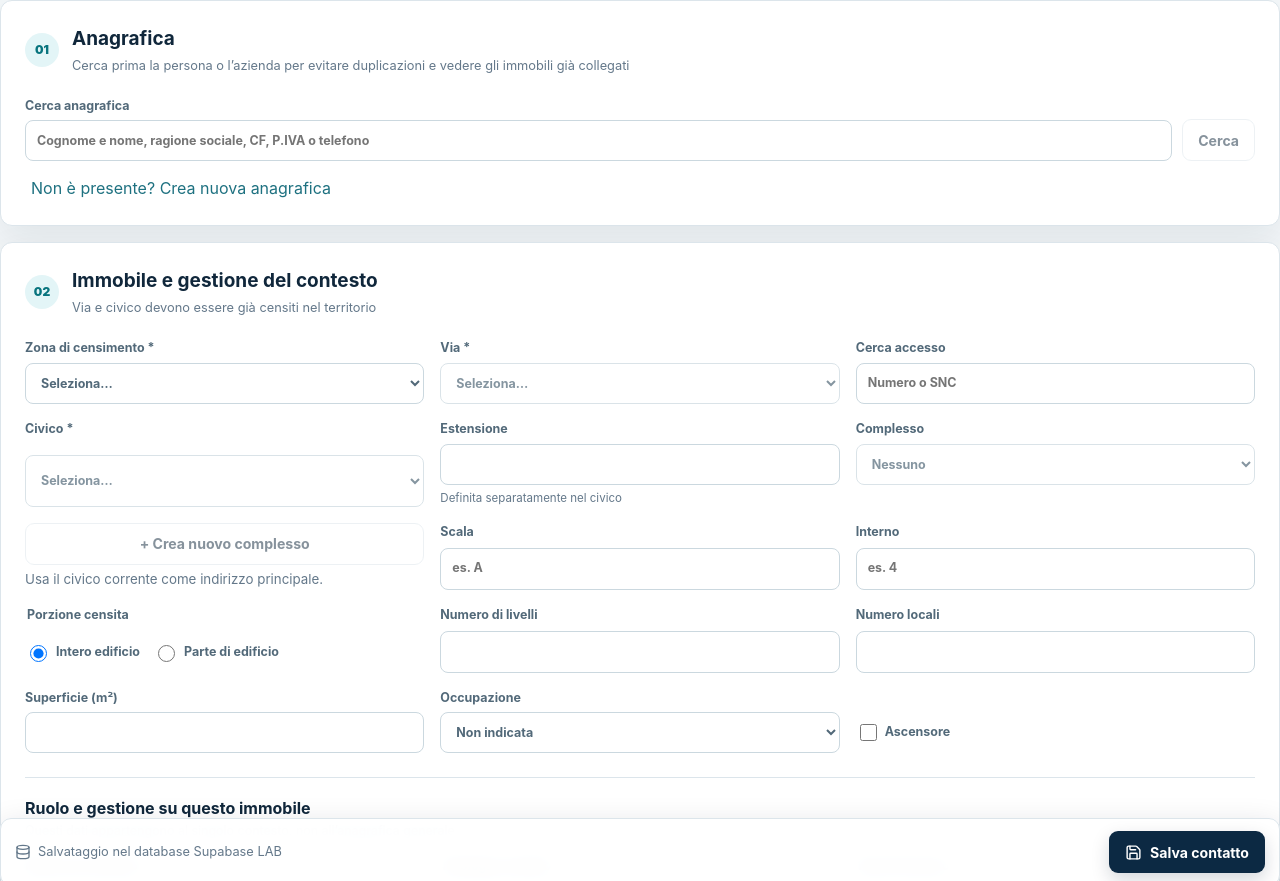
contact form › stops a missing identity at save without discarding the property draft
Select "Centro Storico" in the dropdown labelled "Zona di censimento *" at (225, 383), box [25,363,424,404]
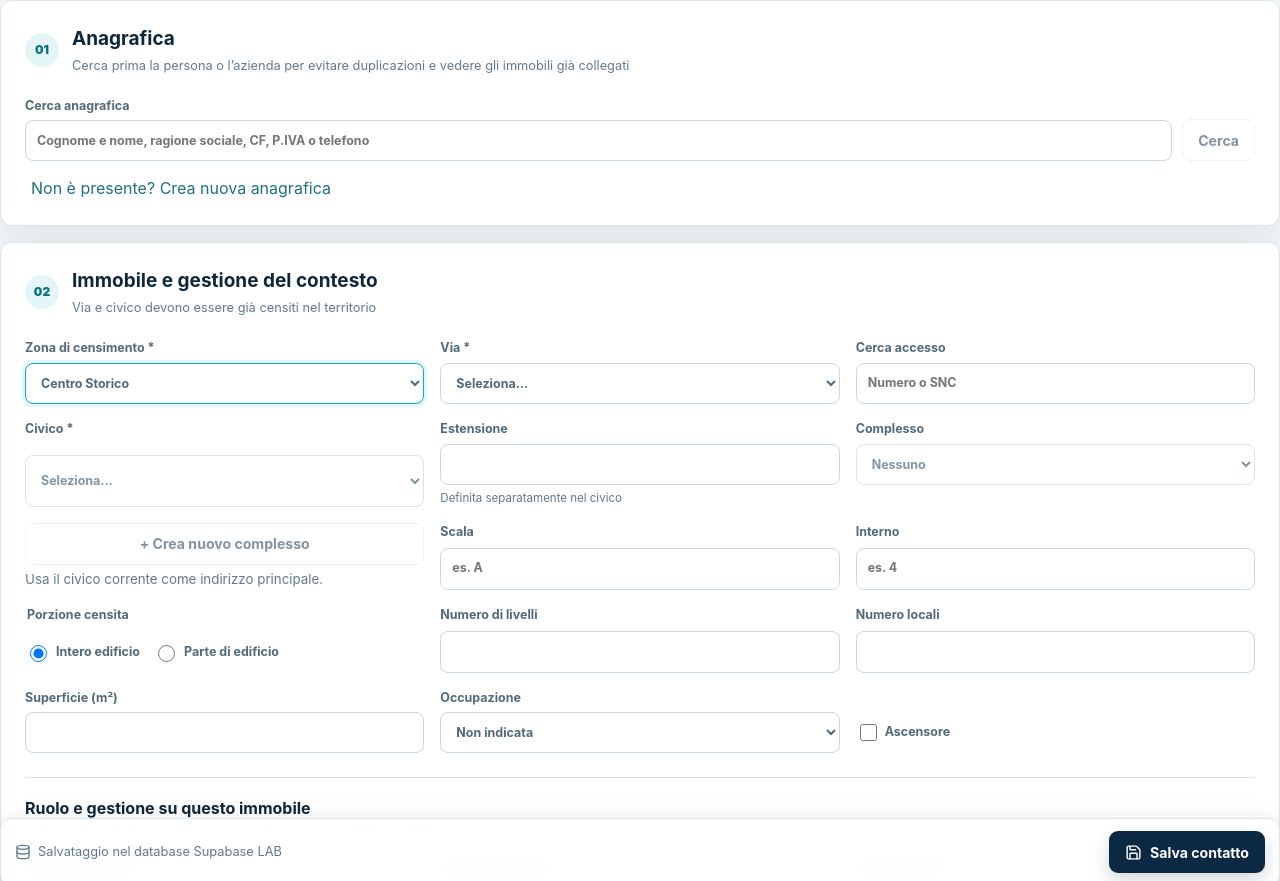
Select "Via Roma" in the dropdown labelled "Via *" at (640, 383), box [440,363,840,404]
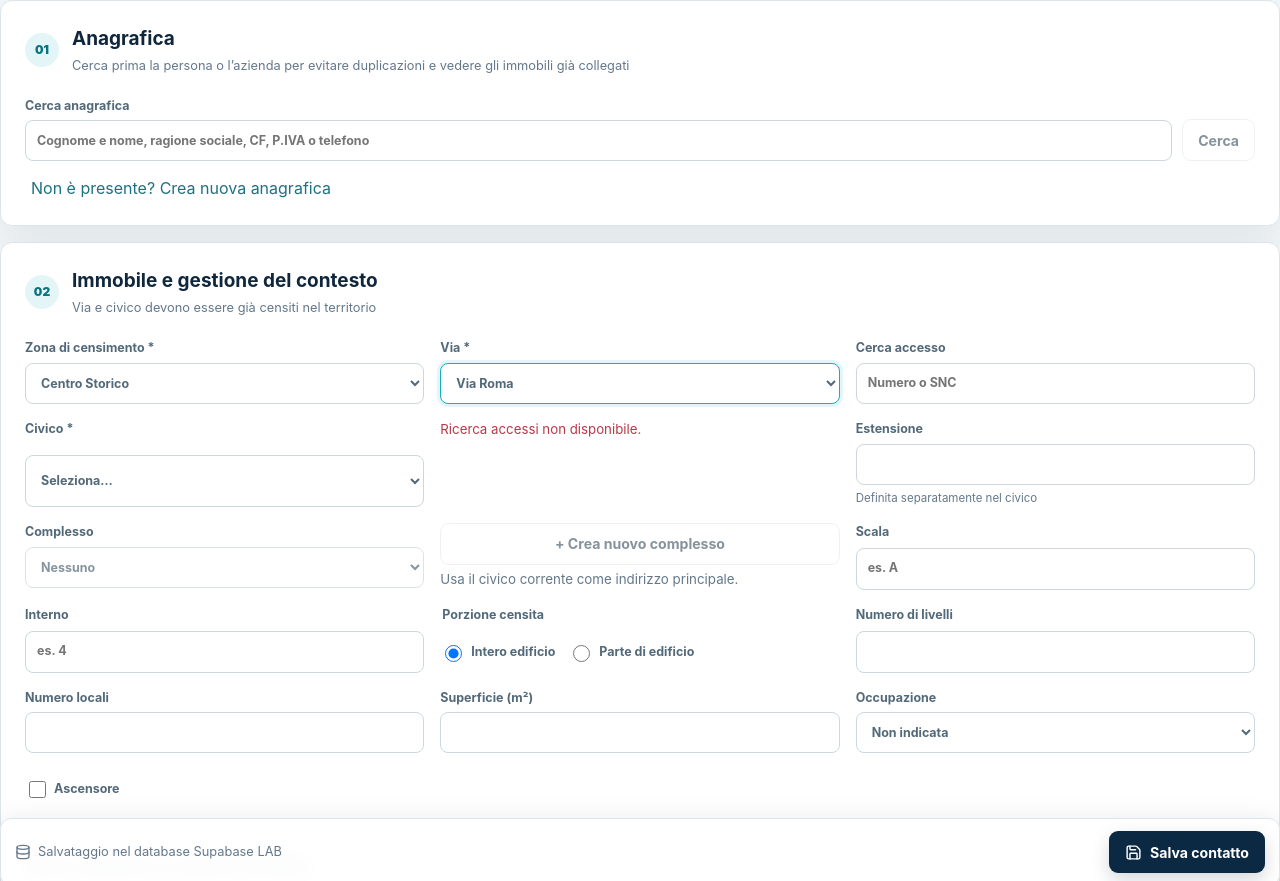
Select "2/A" in the dropdown labelled "Civico *" at (225, 481), box [25,455,424,507]
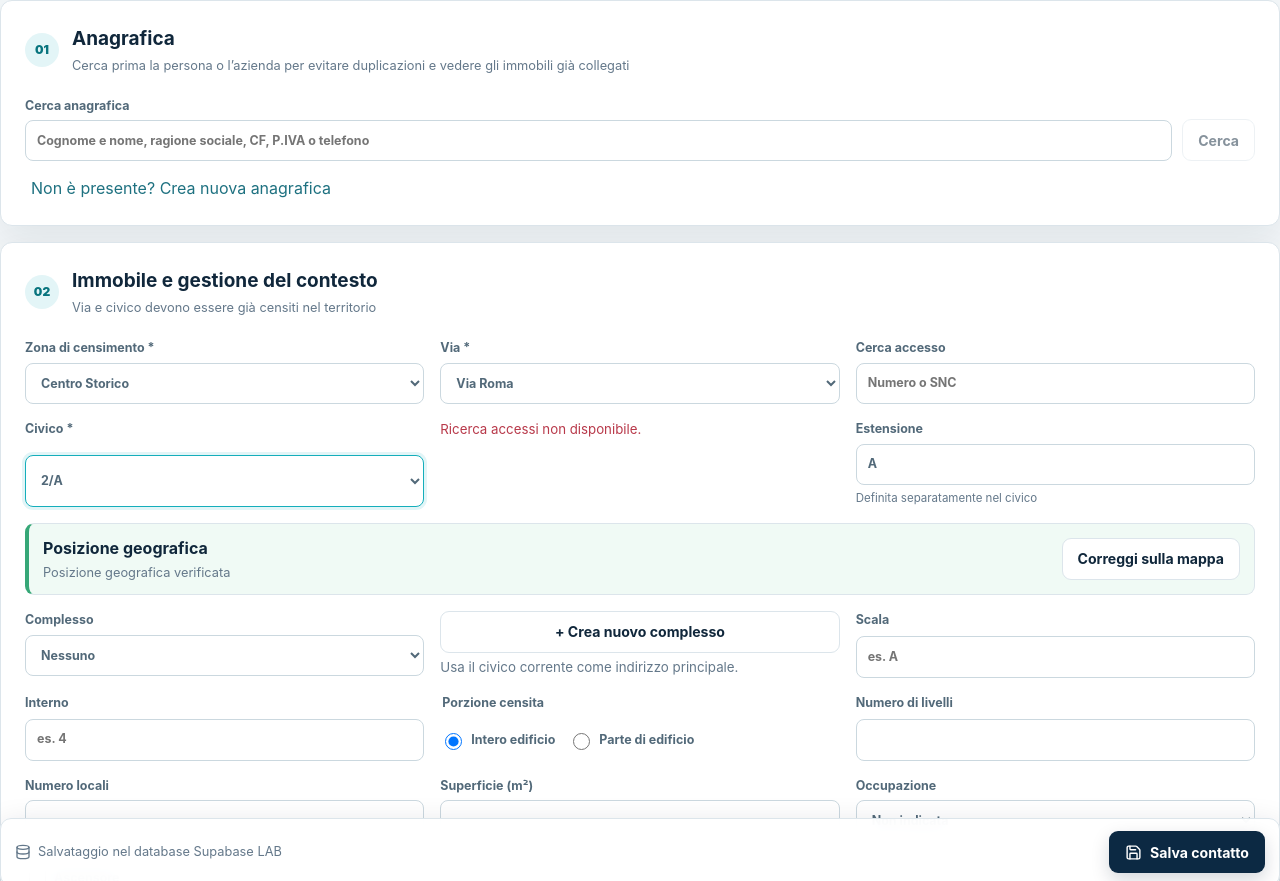
Type "4" into the field labelled "Interno" at (225, 740), box [25,719,424,761]
(page scrolled)
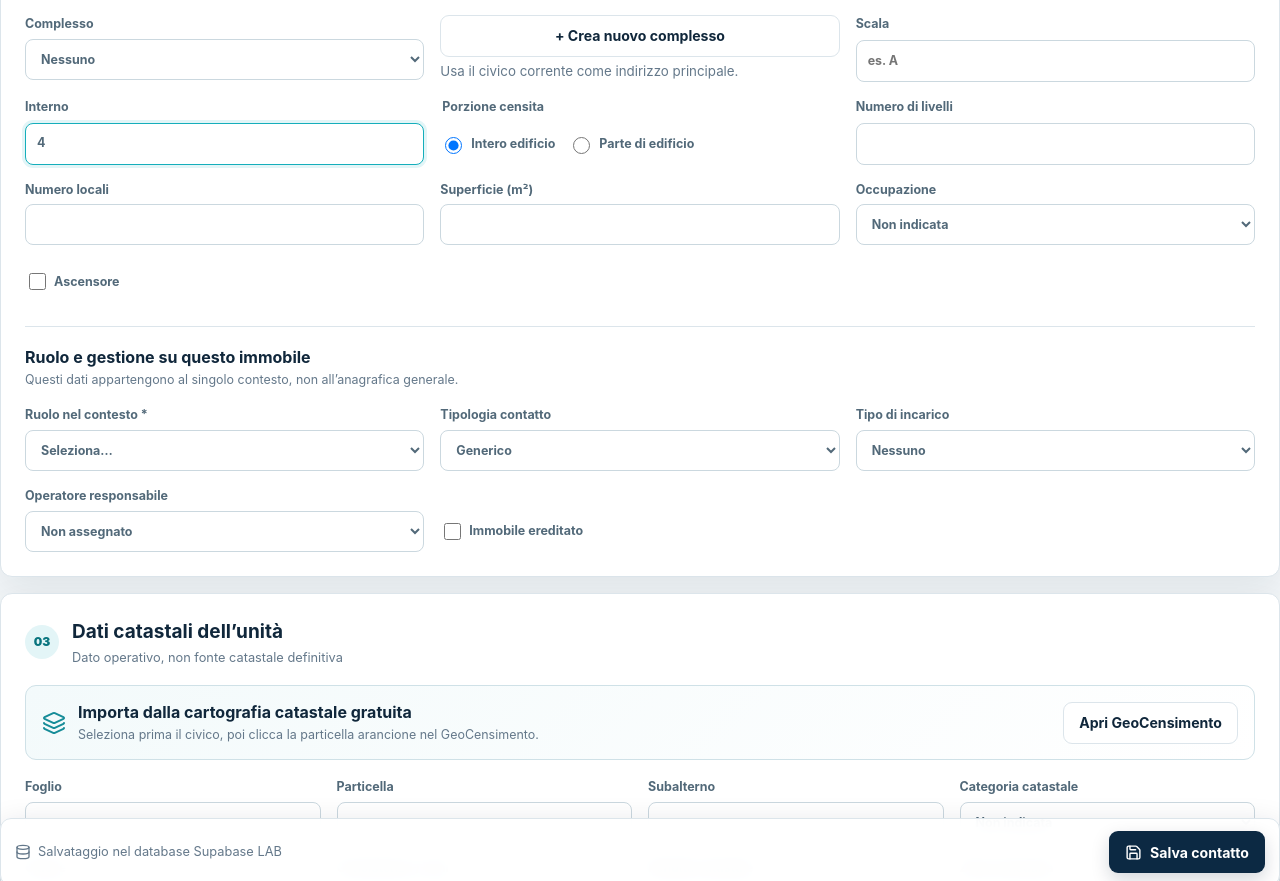
Select "Proprietario" in the dropdown labelled "Ruolo nel contesto *" at (225, 450), box [25,430,424,471]
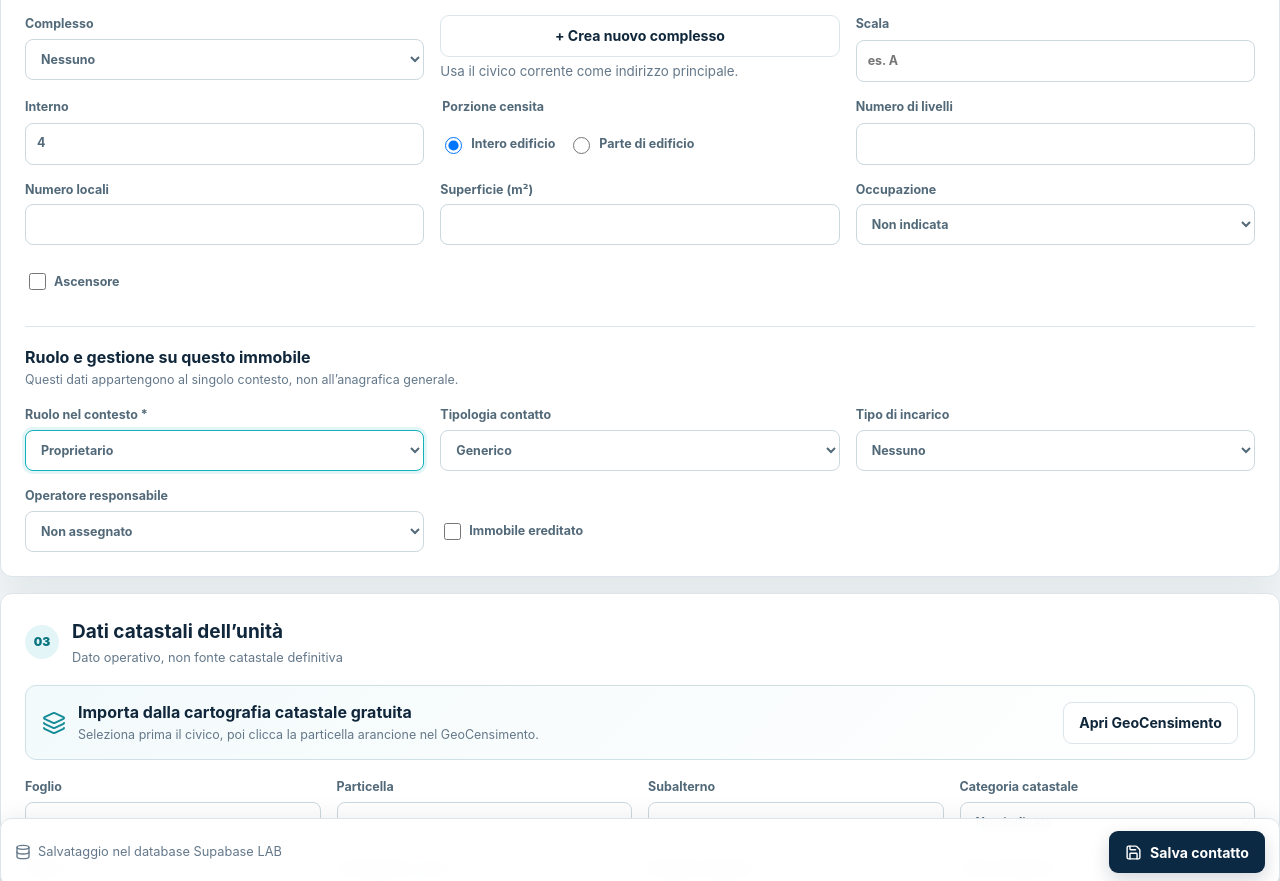
Click the button "Salva contatto" at (1187, 852), box [1109,831,1265,873]
(page scrolled)
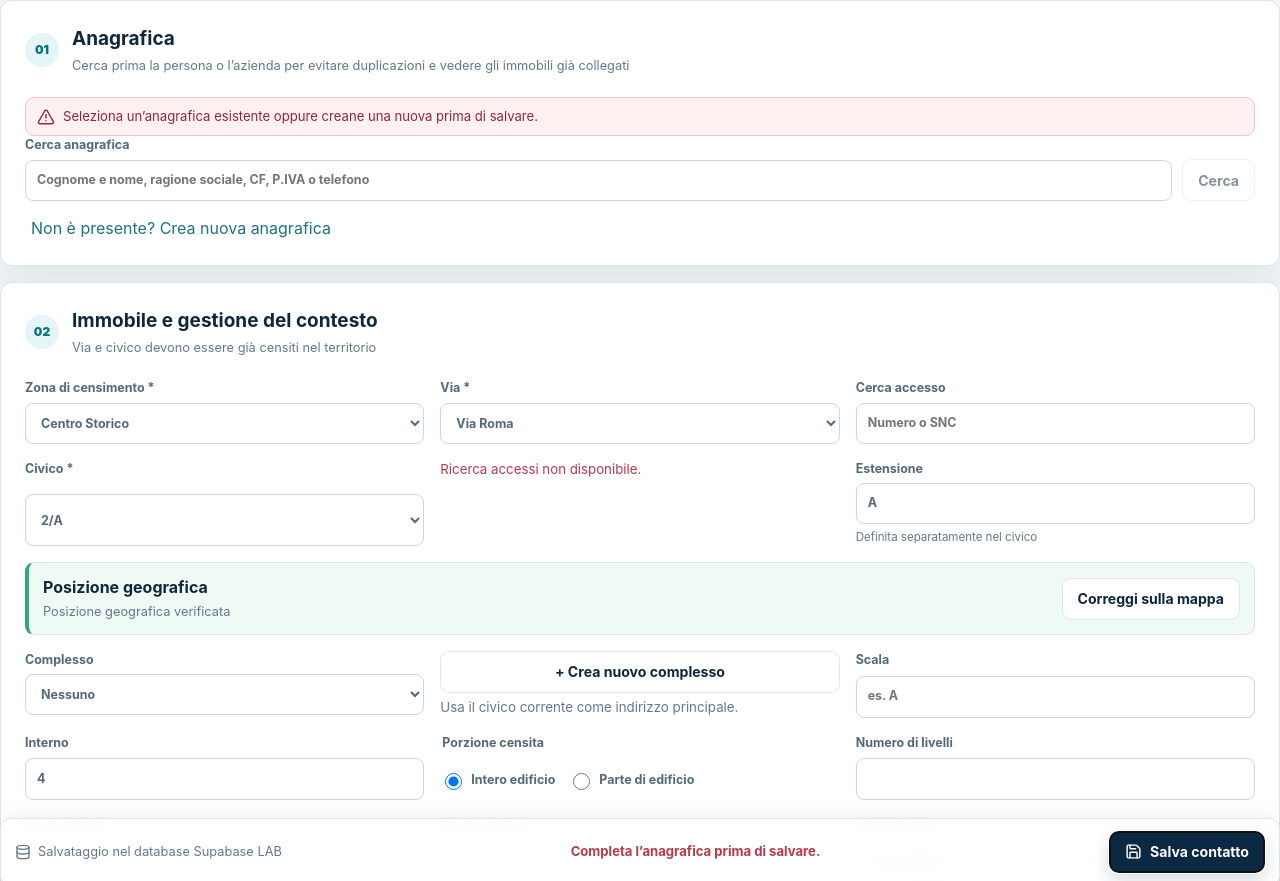
Now the element named "Salva contatto" shows "Completa l’anagrafica", box [571,843,820,859]
